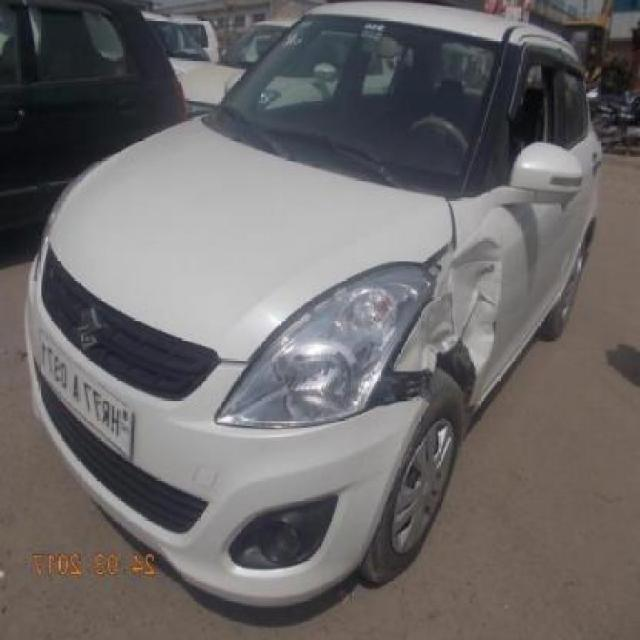damage: (394, 239, 497, 377), (366, 365, 433, 409)
